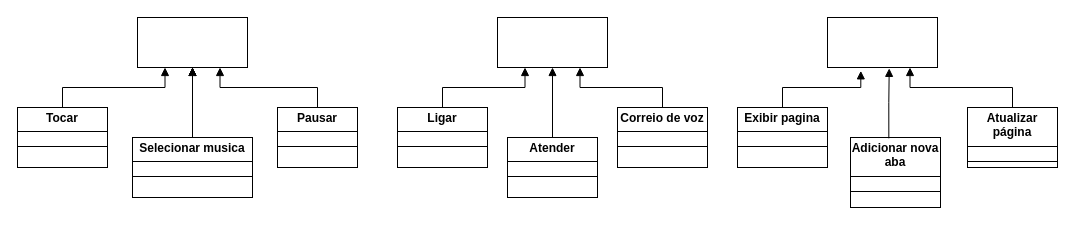
The diagram is 1075 pixels wide and 225 high, and some of its shapes have lost their labels. The shapes that lost their labels are listed below. From the top down, each one's centre as x and y in pixels, then its label:
At (x=192, y=42): "«interface» Reprodutor de Musica".
At (x=552, y=42): "«interface» Aparelho Telefonico".
At (x=882, y=42): "«interface» Navegador de internet".
